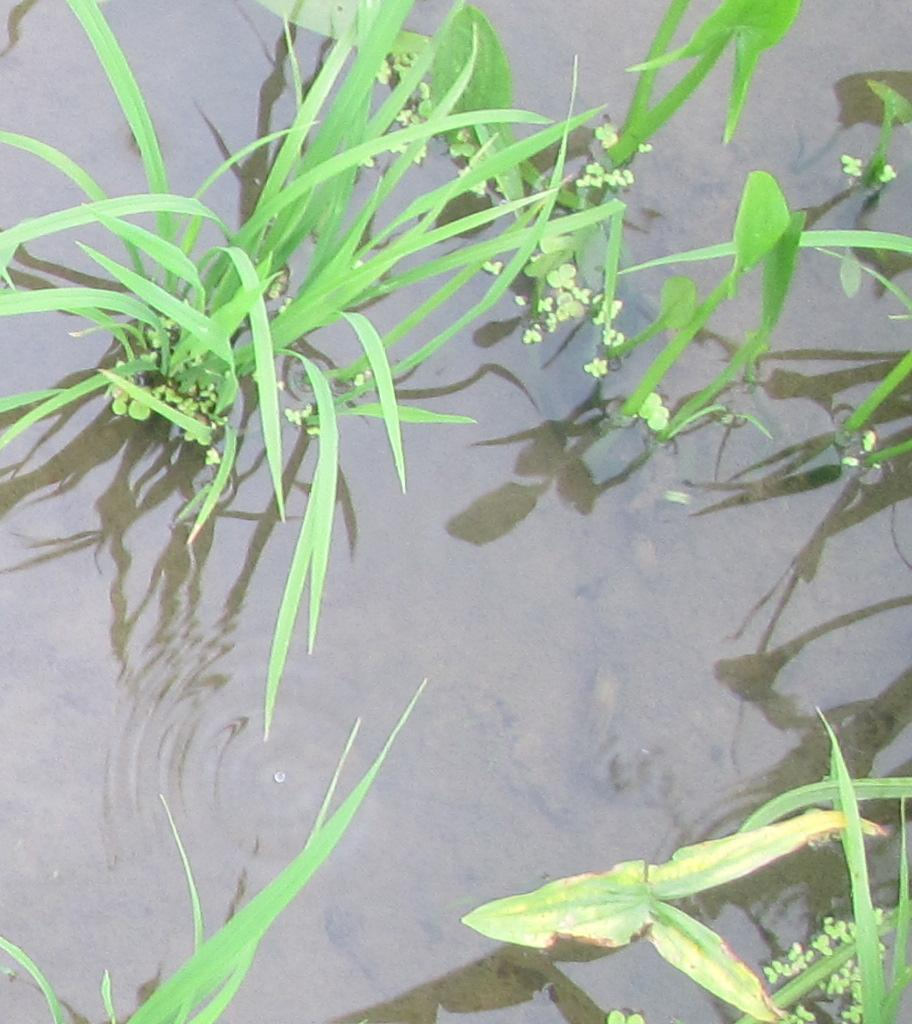Weed: (462, 810, 890, 1008), (642, 166, 807, 339)
